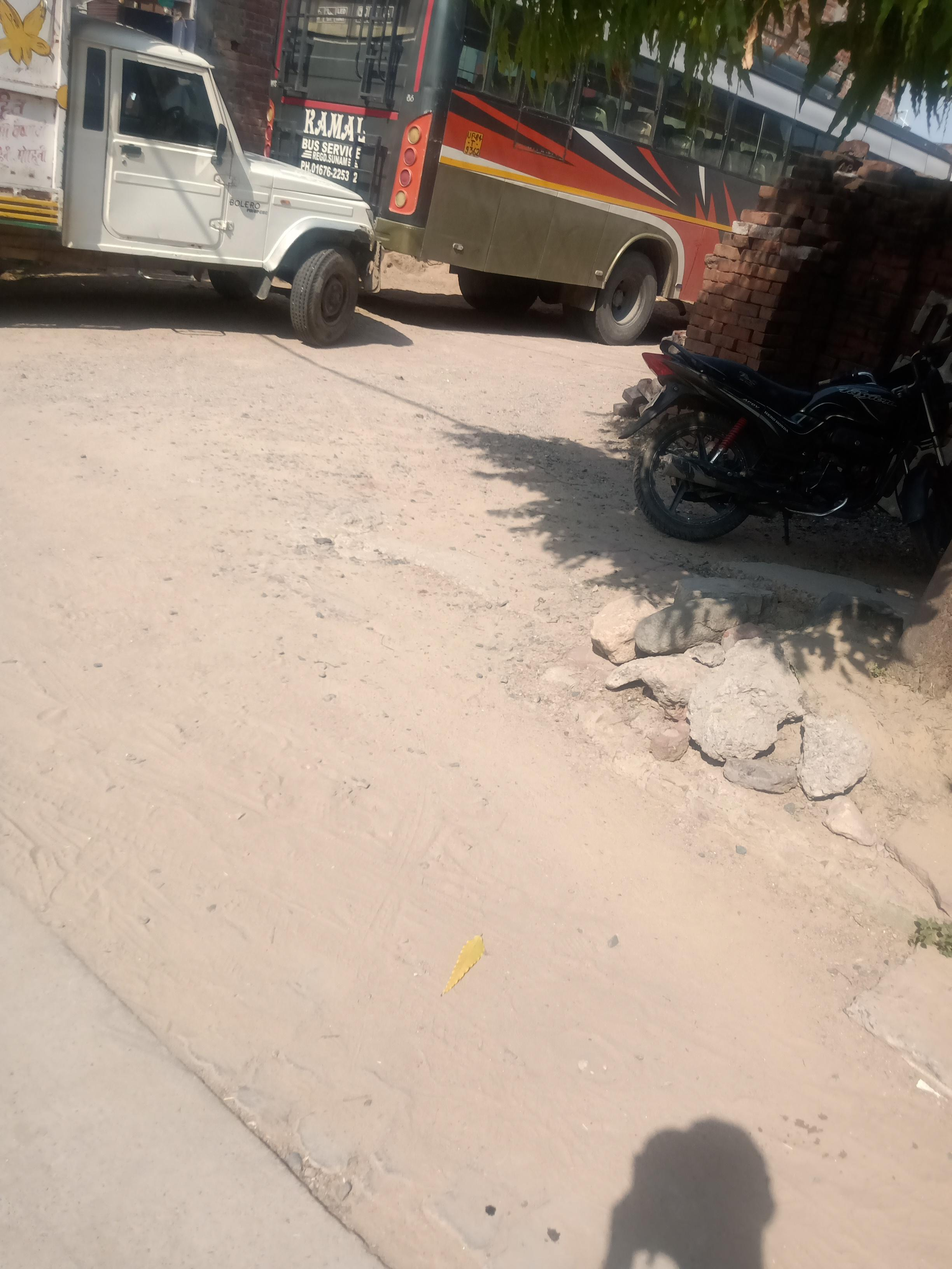non-ambulance: (270, 0, 905, 331)
